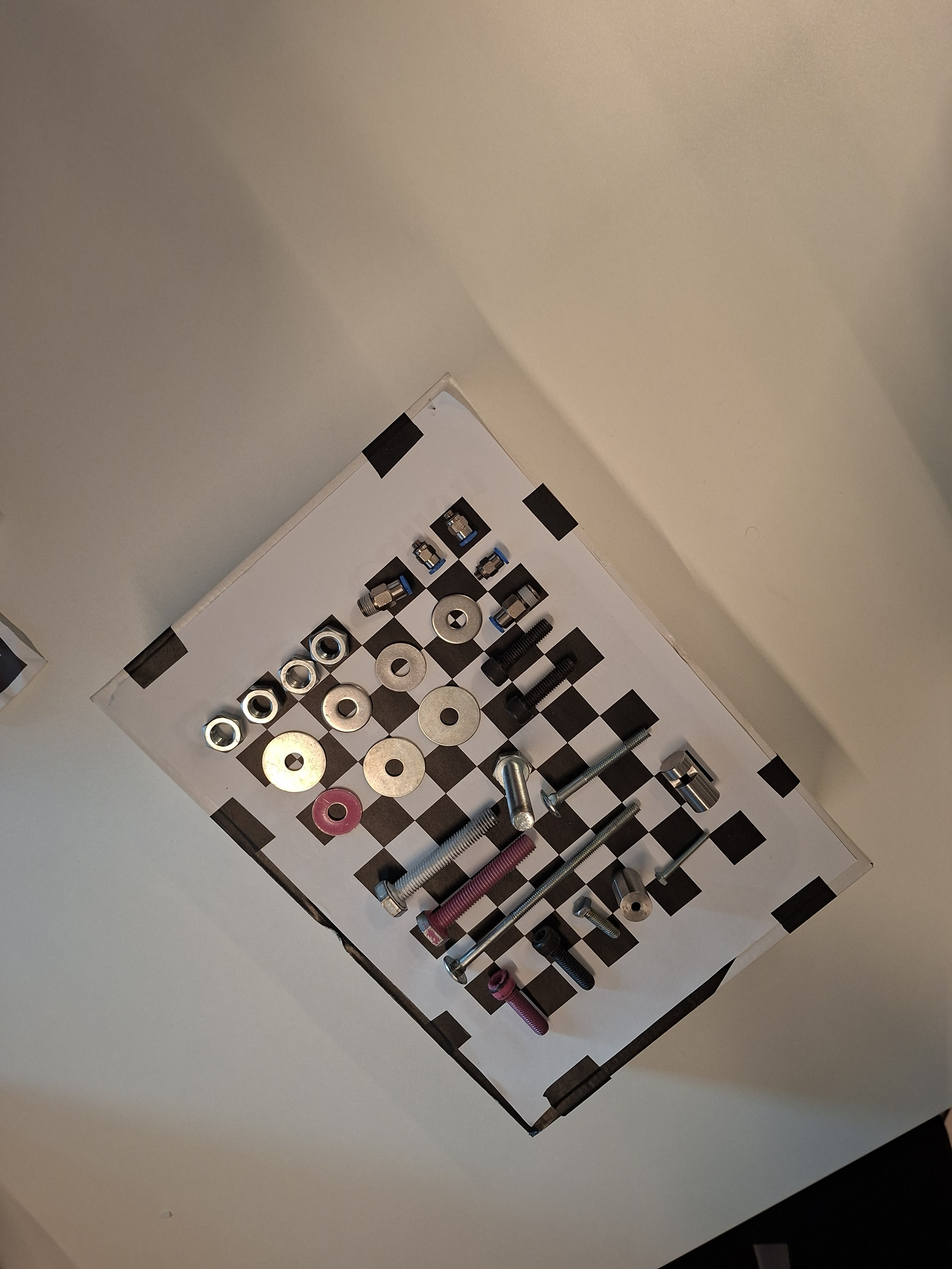allen_screw: (493, 641, 590, 735), (473, 609, 560, 692), (523, 917, 608, 1001), (480, 962, 561, 1045)
barrel_nut: (652, 736, 733, 819), (601, 860, 666, 930)
carriage_bolt: (434, 785, 649, 994), (531, 713, 662, 824)
hex_bolt: (368, 791, 509, 927), (410, 822, 547, 954), (647, 823, 717, 891), (488, 746, 538, 834), (563, 889, 629, 948)
hex_nut: (301, 618, 357, 674), (197, 705, 253, 760), (269, 652, 326, 700), (239, 682, 286, 728)
pneumatic_fitting: (479, 572, 550, 639), (348, 568, 418, 626), (434, 497, 484, 550), (403, 531, 450, 579), (466, 542, 514, 588)
washer: (416, 682, 486, 750), (259, 727, 330, 794), (361, 733, 433, 799), (318, 678, 377, 736), (305, 784, 367, 839), (427, 588, 485, 646), (373, 638, 431, 695)
